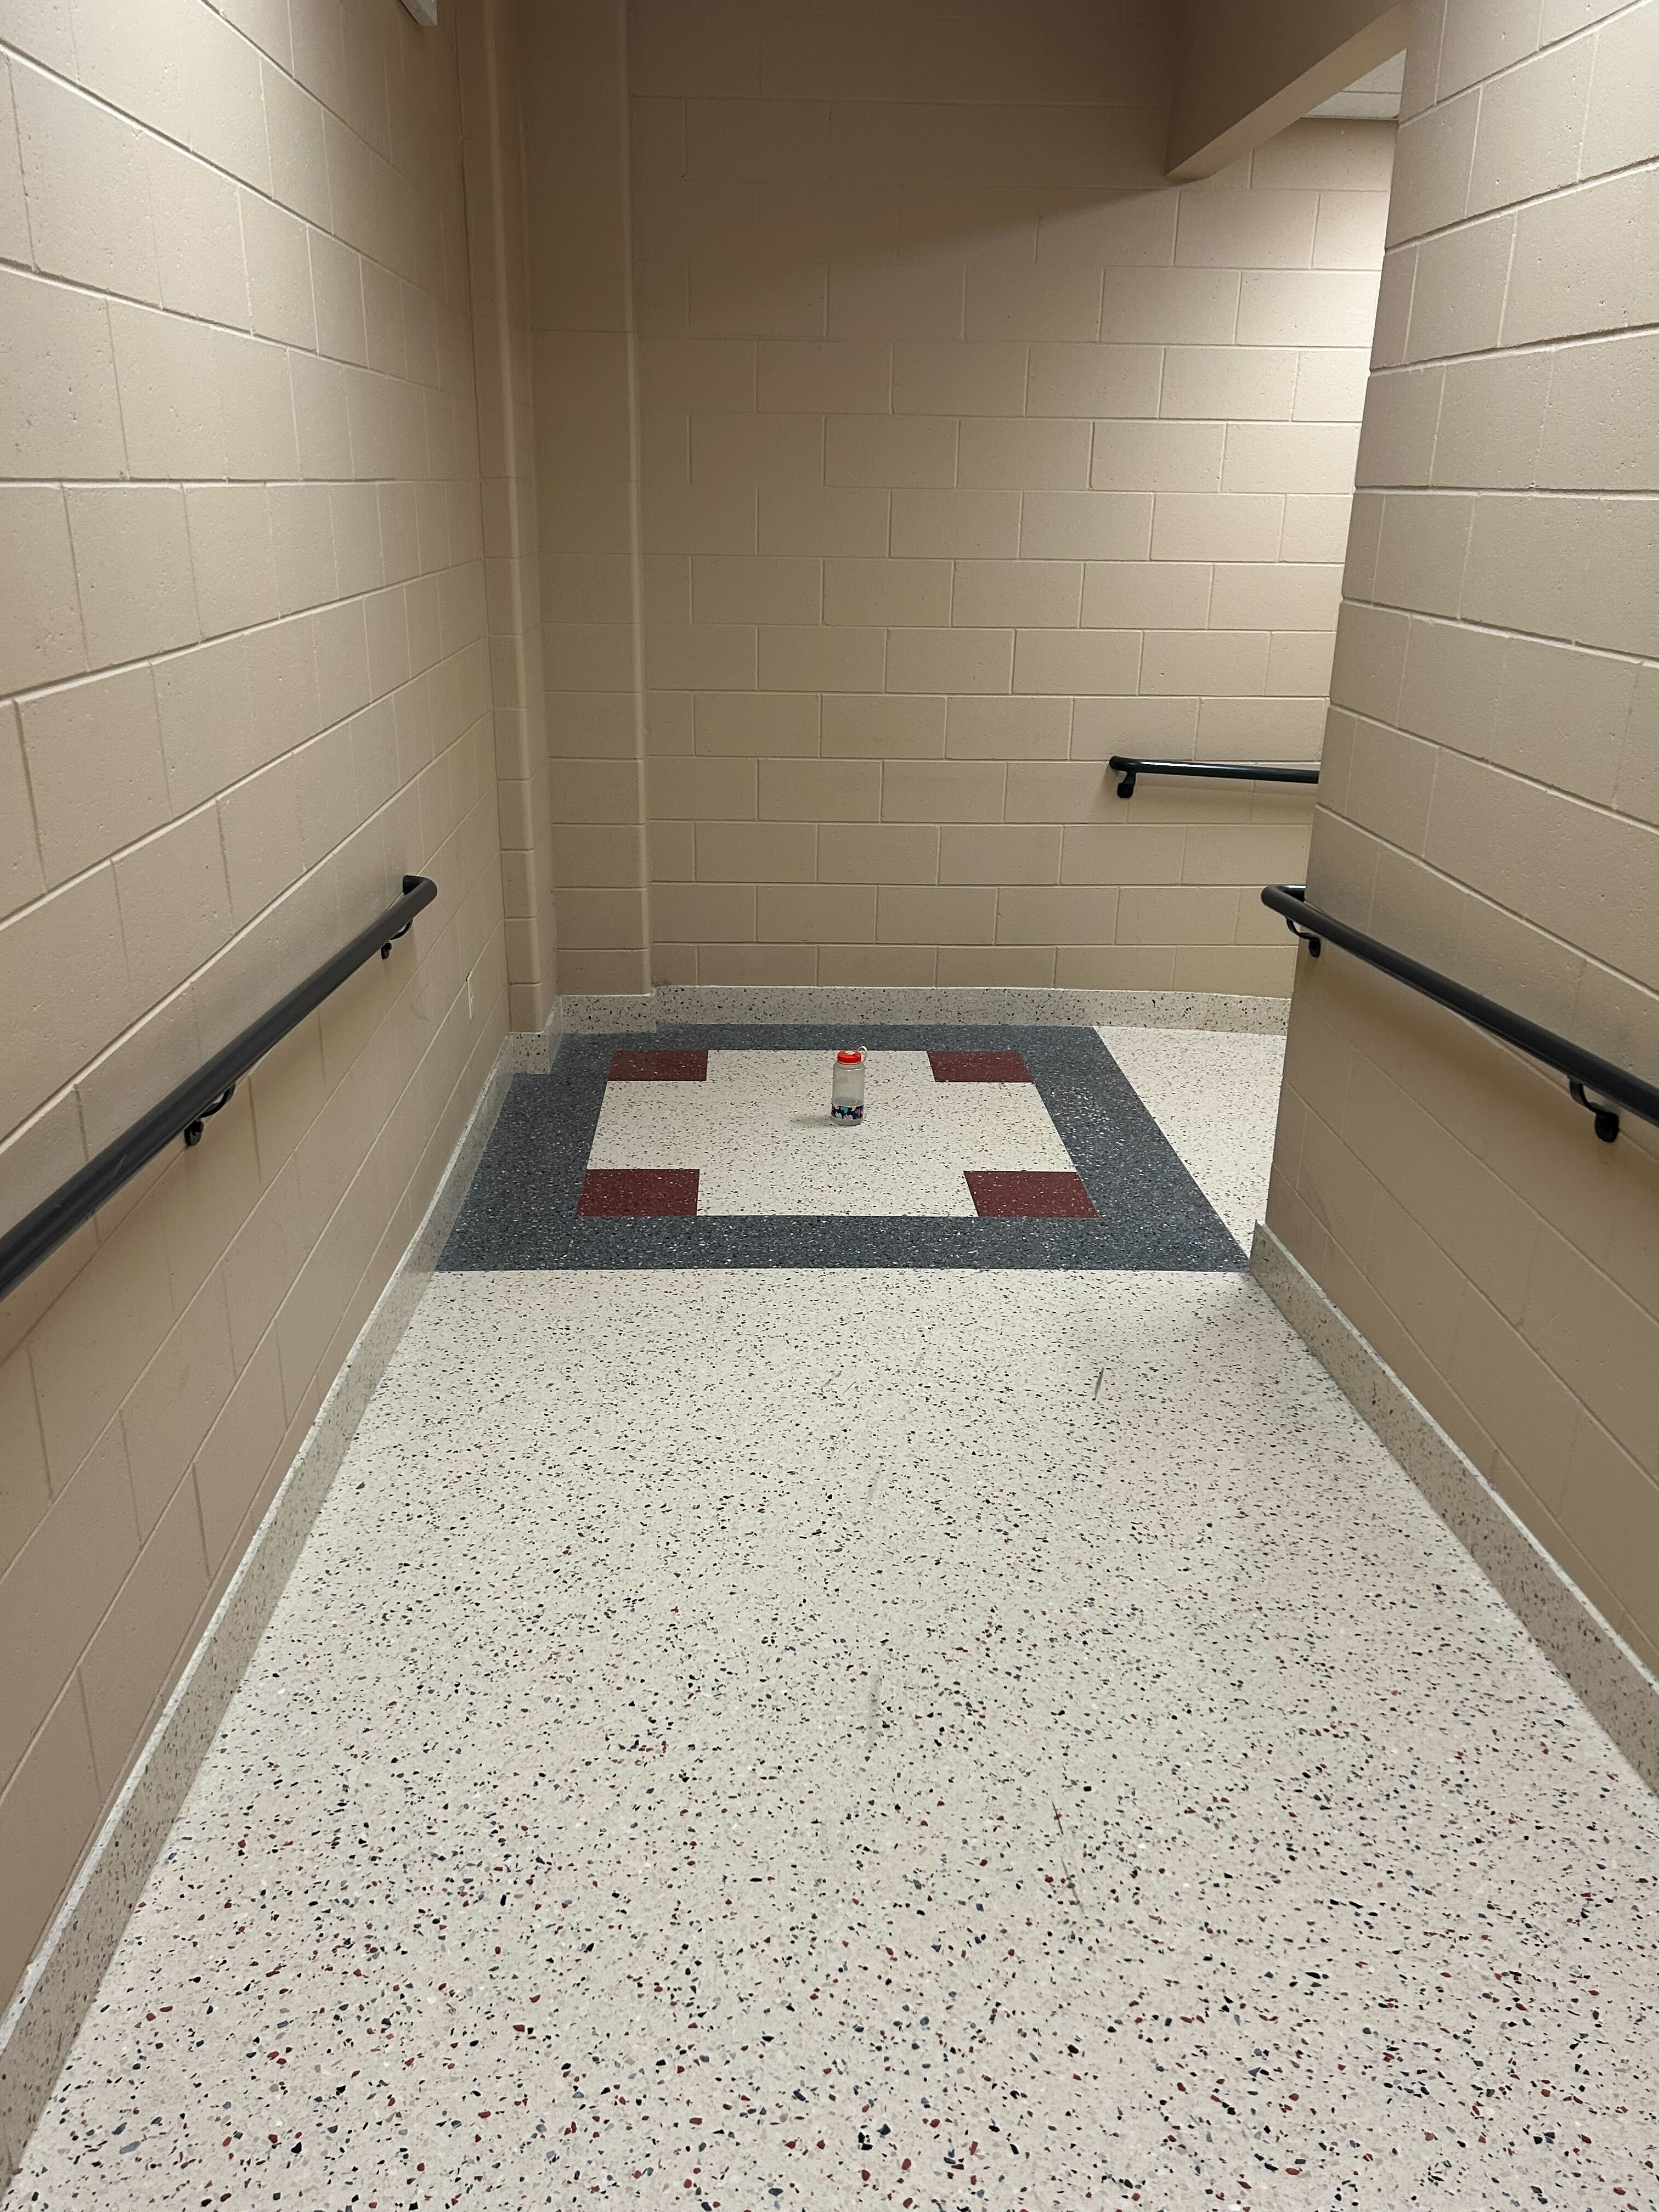bottle: (828, 1036, 871, 1136)
